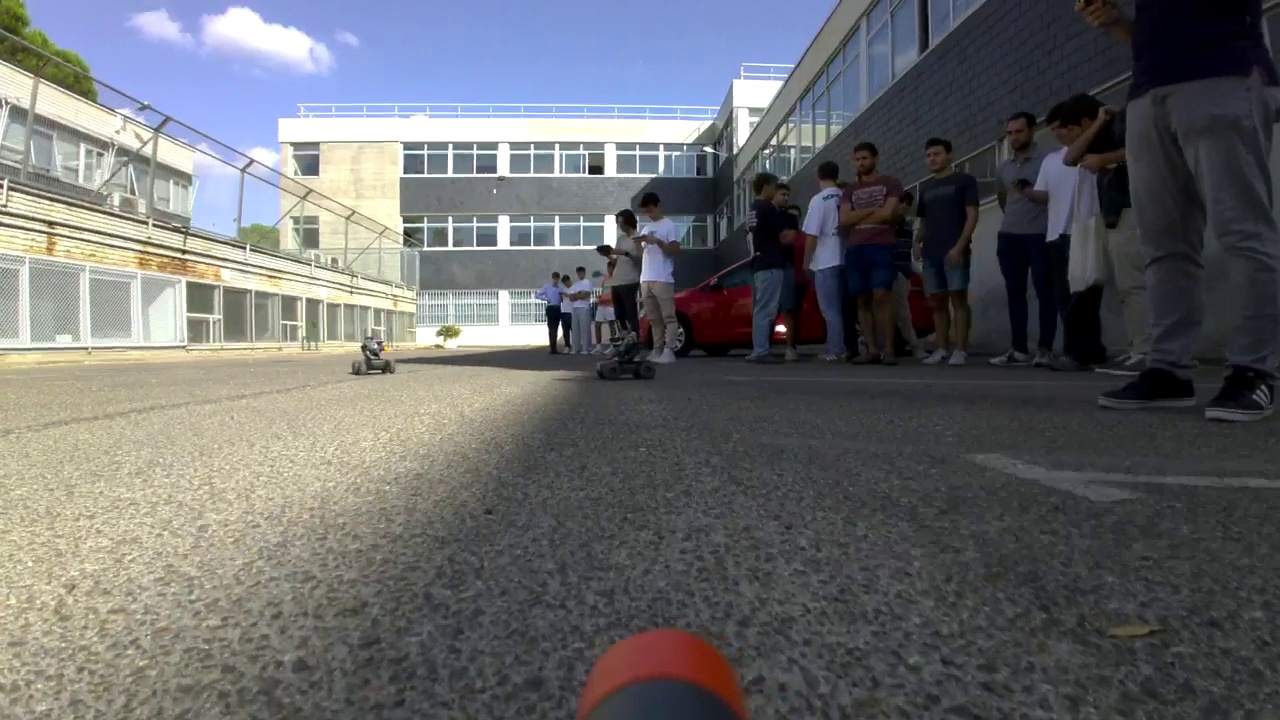robot: (596, 314, 657, 385), (349, 335, 396, 377)
